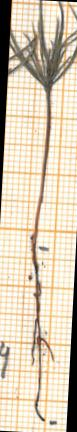flower: (8, 0, 76, 92)
root: (31, 254, 53, 421)
stem: (31, 93, 50, 253)
